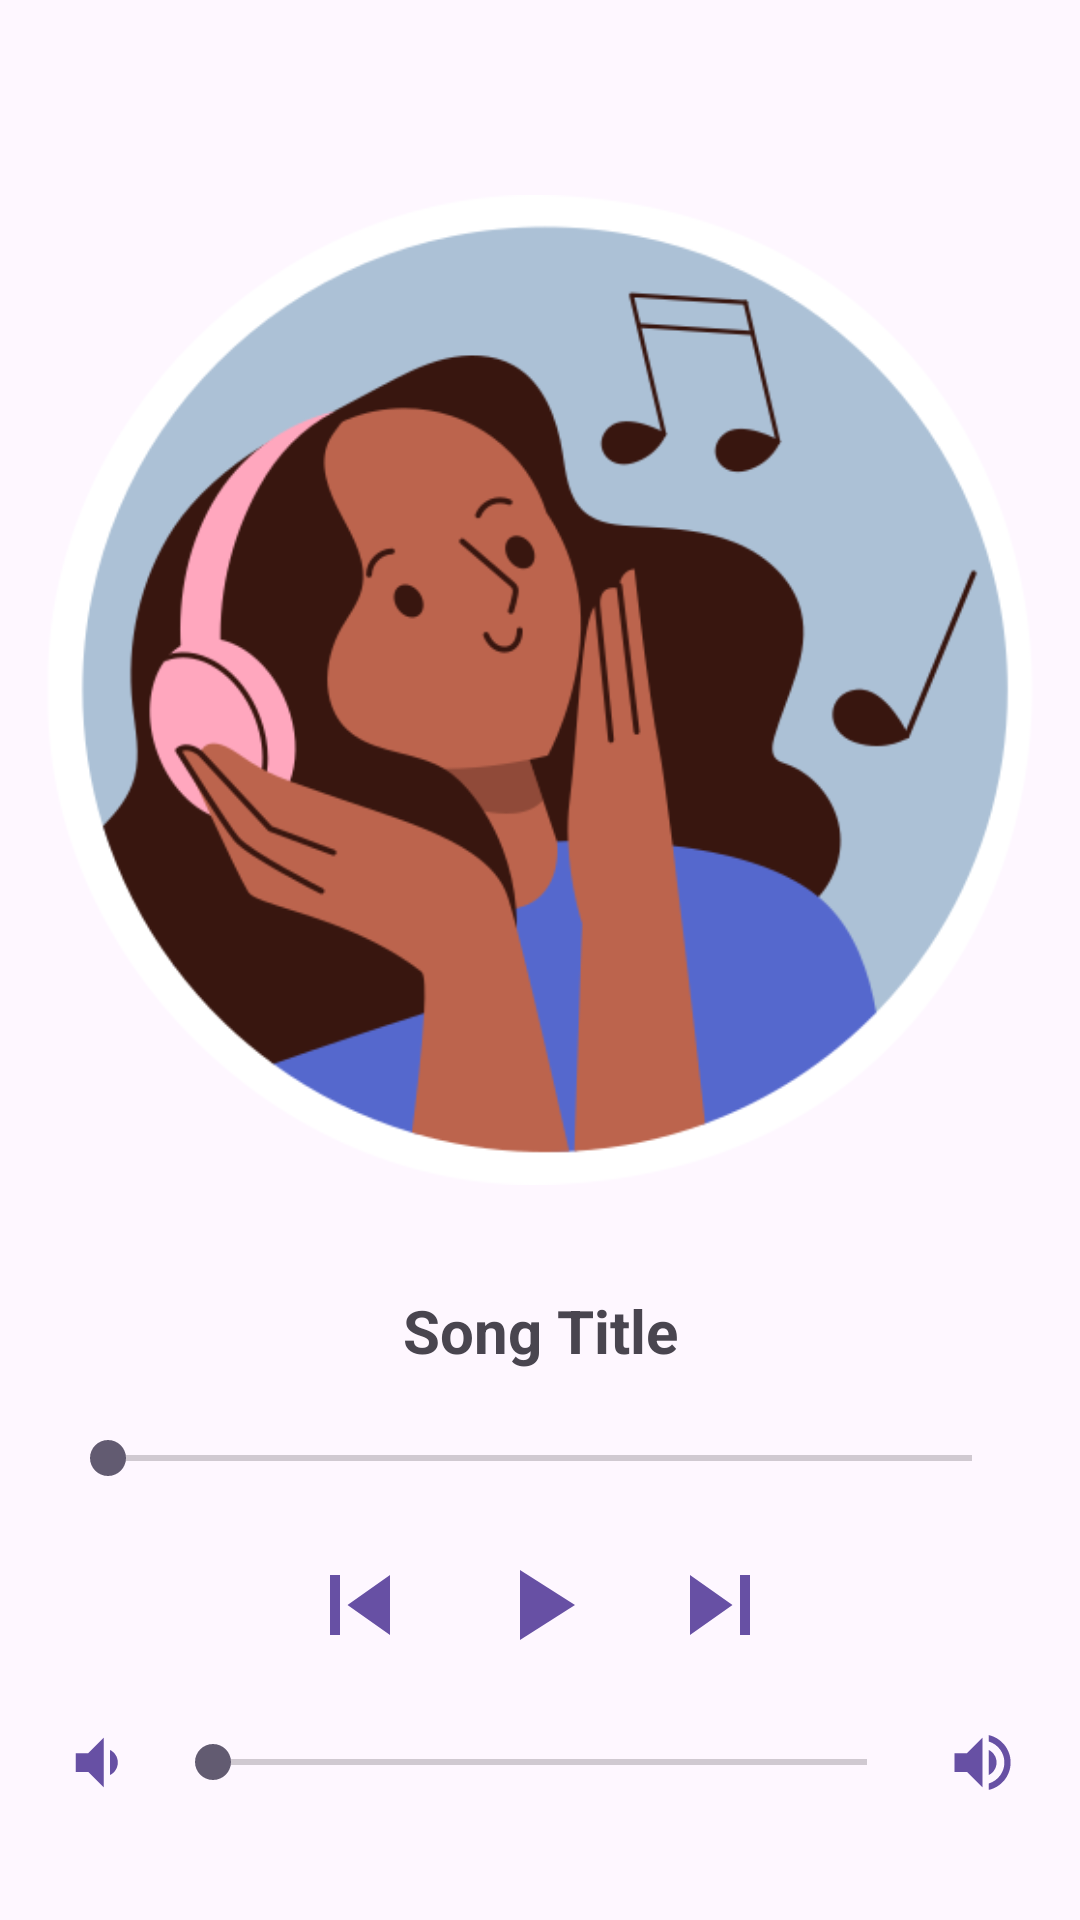

Icons on this 1080px×1920px Android screen, each with its box as (x1, y1, x2, y2):
play arrow: (520, 1570, 575, 1640)
skip next: (690, 1575, 750, 1635)
skip previous: (330, 1575, 390, 1635)
volume down: (75, 1738, 118, 1787)
volume up: (954, 1735, 1011, 1790)
